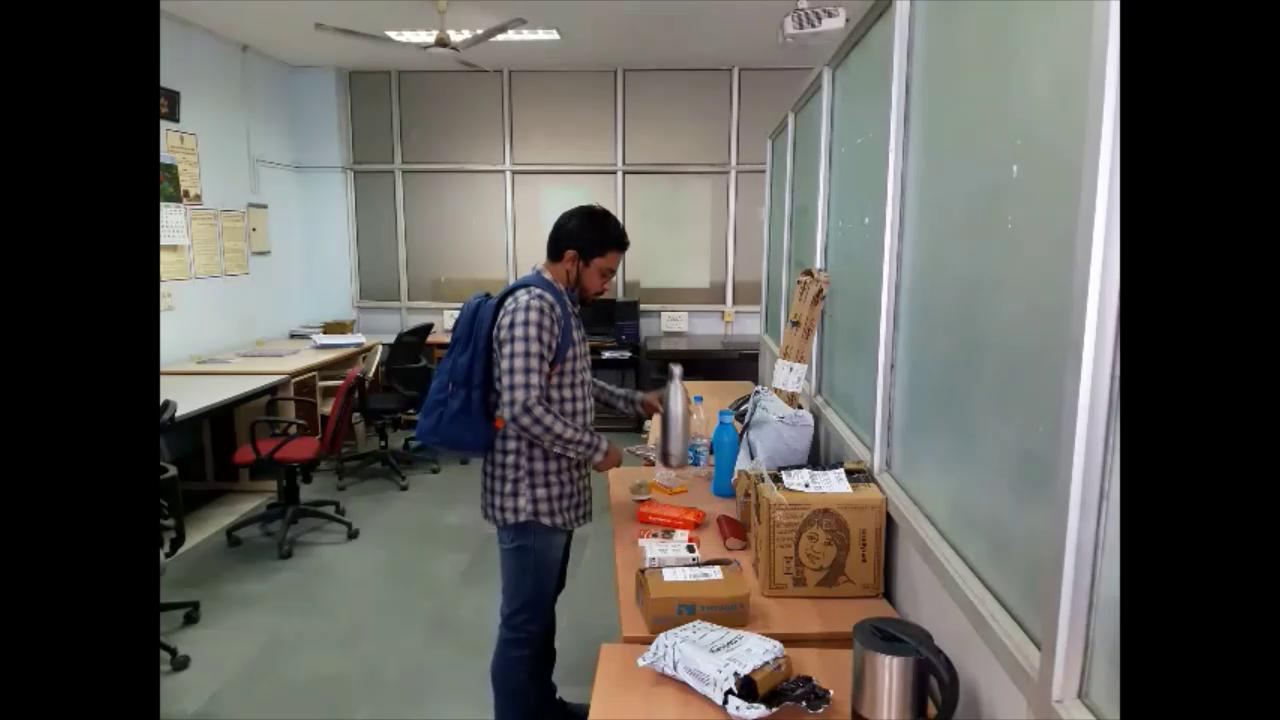Normal: (408, 200, 691, 720)
